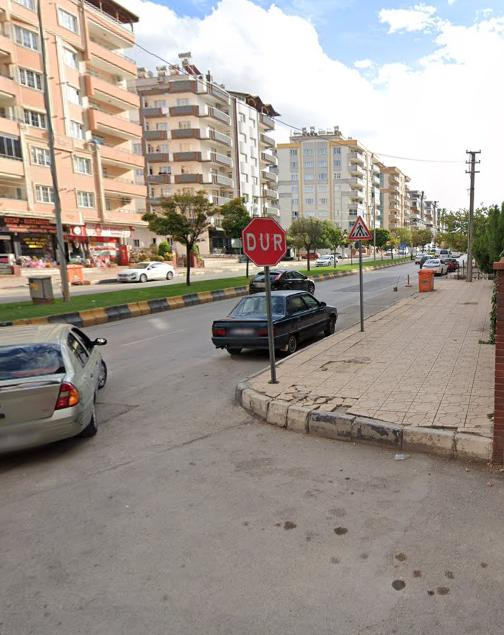stop: (242, 217, 285, 263)
